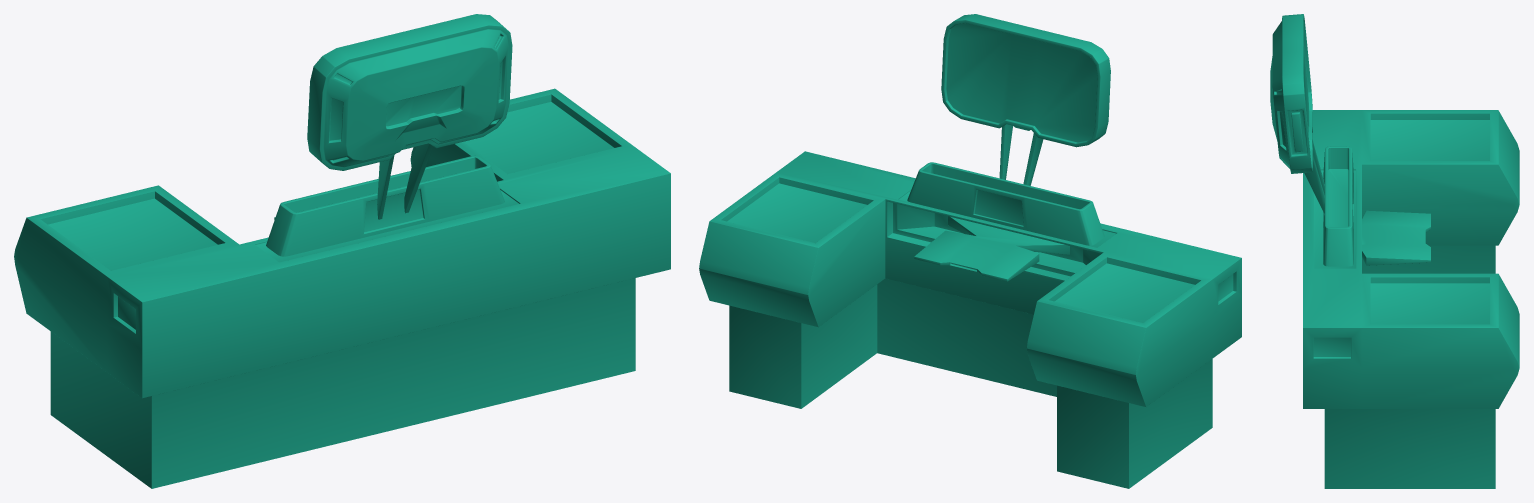
File: Desk.fbx
The picture shows the model from 3 angles, left to right: view 1: azimuth 30°, elevation 25°; view 2: azimuth 150°, elevation 25°; view 3: azimuth 270°, elevation 25°; orthographic projection. The views are drawn at different scales.
Visible parts, largest first — view 1: Desk_Lp001; view 2: Desk_Lp001; view 3: Desk_Lp001.
Boxes of the visible parts, x1,y1,x2,y2 form: Desk_Lp001: (14, 14, 670, 488); Desk_Lp001: (699, 14, 1241, 488); Desk_Lp001: (1270, 14, 1519, 488).
Size of the model in its own units: 37.8 by 27.89 by 18.27.
